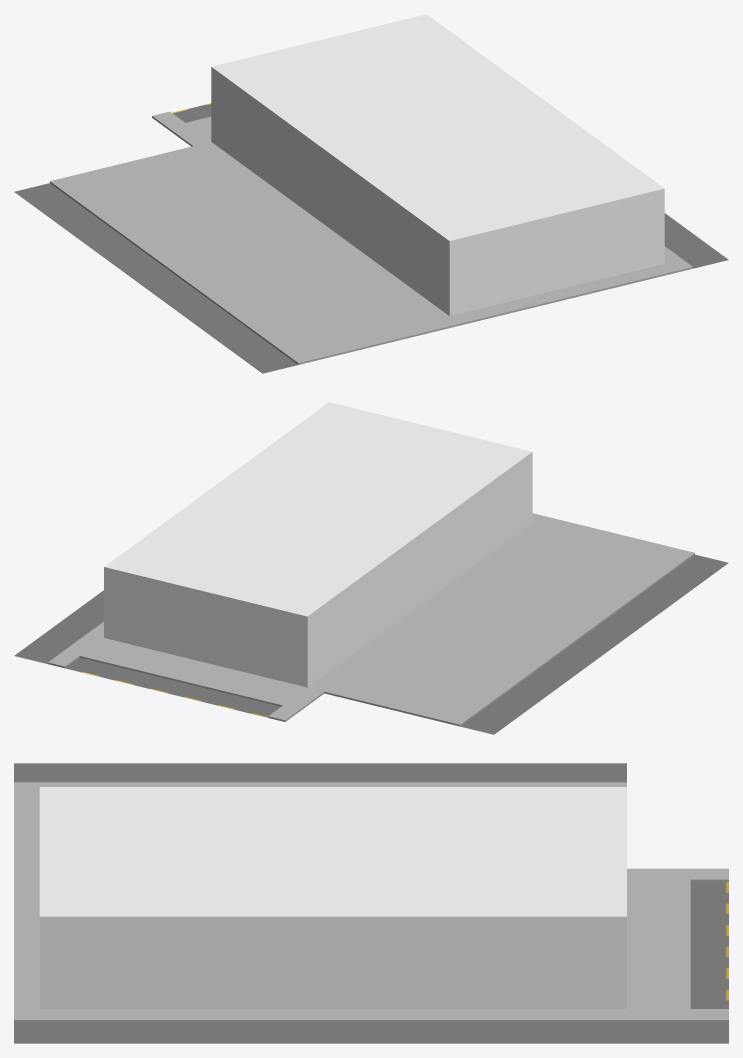
File: police.glb
3 renders of one model, top to bottom at view 1: azimuth 30°, elevation 25°; view 2: azimuth 150°, elevation 25°; view 3: azimuth 270°, elevation 25°, orthographic. The views are drawn at different scales.
Visible parts, largest first — view 1: Plane, Sidewalk; view 2: Plane, Sidewalk; view 3: Plane, Sidewalk.
Part boxes in pixels (x1,y1,x2,y2): Plane: (14,14,728,373); Sidewalk: (50,142,692,364); Plane: (14,402,728,734); Sidewalk: (87,513,694,726); Plane: (14,763,728,1043); Sidewalk: (14,782,626,1022).
Size of what is drawn, in the model's own units: 52 by 8.2 by 56.
Materials: 5 (1 with a texture image).
